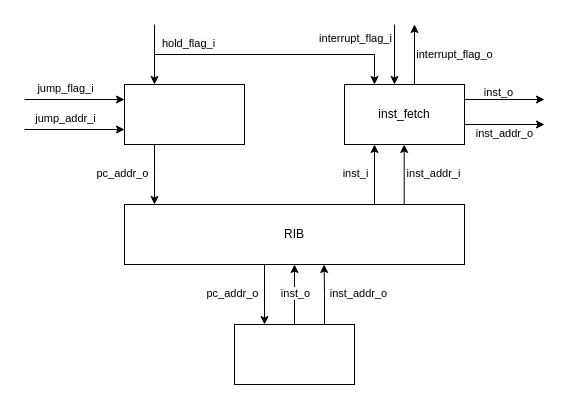
The diagram is 570 pixels wide and 402 high, and some of its shapes have lost their labels. The shapes that lost their labels are listed below. From the top down, each one's centre as x and y in pixels, then its label:
point 184,114: pc_reg
point 294,354: ROM
